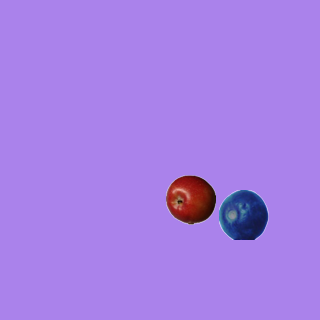Apple Braeburn: (165, 174, 215, 224)
Huckleberry: (218, 189, 268, 239)
